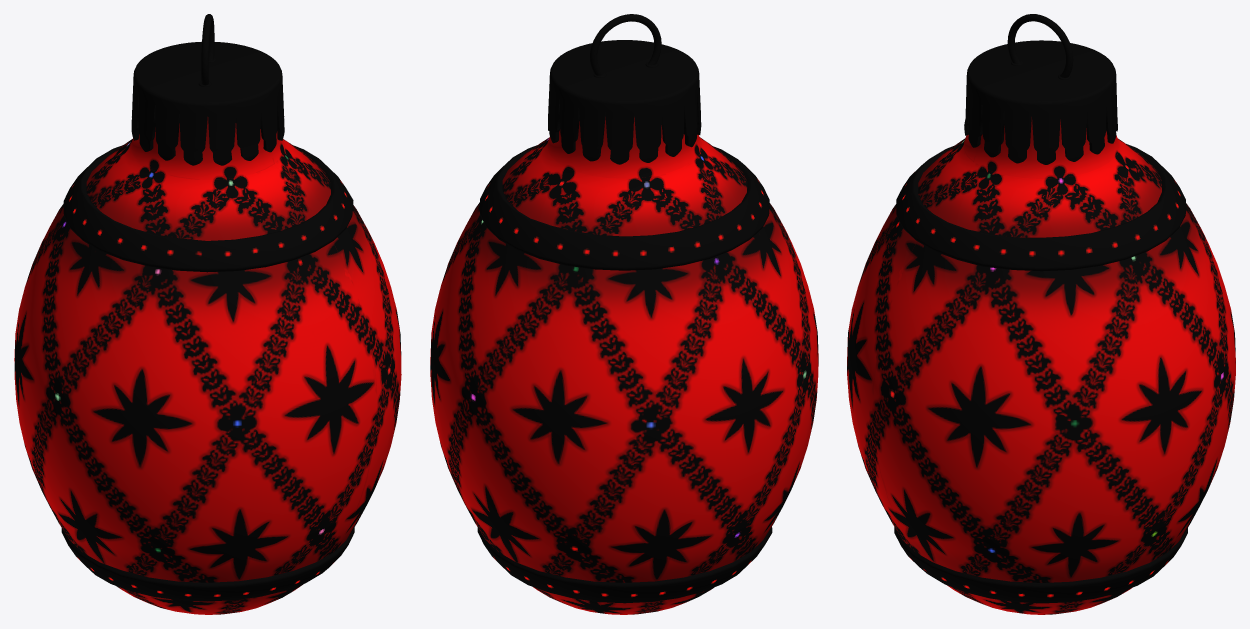
The model's file is OrnateOrnament.gltf.
The picture shows the model from 3 angles, left to right: view 1: azimuth 30°, elevation 25°; view 2: azimuth 150°, elevation 25°; view 3: azimuth 270°, elevation 25°; orthographic projection.
Parts seen in each view (by area): view 1: ornate_ornament.1; view 2: ornate_ornament.1; view 3: ornate_ornament.1.
Part boxes in pixels (left/top/right/bottom): ornate_ornament.1: left=14, top=14, right=401, bottom=614; ornate_ornament.1: left=430, top=14, right=818, bottom=614; ornate_ornament.1: left=847, top=14, right=1235, bottom=614.
Size of the model in its own units: 0.0275 by 0.0456 by 0.0275.
1 material, 1 textured.
